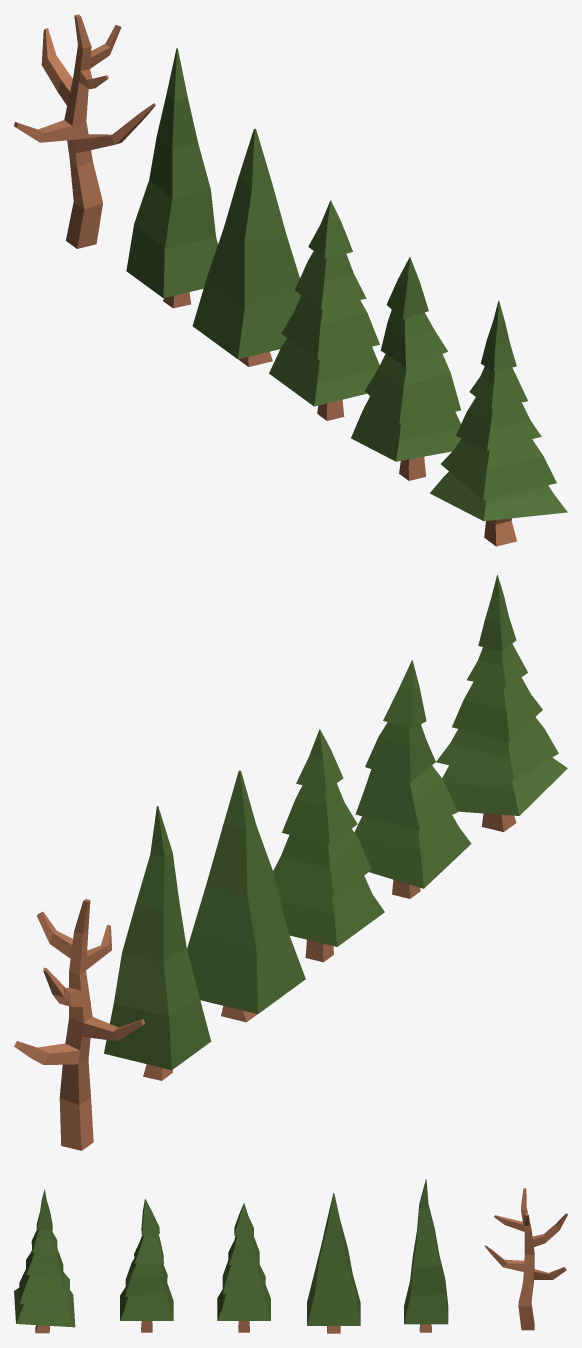
Rendered from low_poly_trees_pine.glb.
3 views of the same model, one above another, from view 1: azimuth 30°, elevation 25°; view 2: azimuth 150°, elevation 25°; view 3: azimuth 270°, elevation 25° (orthographic). The views are drawn at different scales.
Parts seen in each view (by area): view 1: Tree 1, Tree 4, Tree 2, Tree 3, Tree 5, Tree 6; view 2: Tree 4, Tree 1, Tree 5, Tree 2, Tree 3, Tree 6; view 3: Tree 1, Tree 4, Tree 3, Tree 2, Tree 5, Tree 6.
Part boxes in pixels (x1,y1,x2,y2): Tree 1: [430, 300, 567, 546]; Tree 4: [192, 128, 301, 366]; Tree 2: [351, 257, 460, 480]; Tree 3: [269, 200, 379, 420]; Tree 5: [126, 48, 217, 308]; Tree 6: [14, 14, 155, 248]; Tree 4: [187, 770, 305, 1022]; Tree 1: [436, 575, 567, 832]; Tree 5: [104, 806, 211, 1080]; Tree 2: [354, 660, 471, 898]; Tree 3: [273, 729, 384, 962]; Tree 6: [14, 899, 144, 1150]; Tree 1: [14, 1189, 75, 1333]; Tree 4: [307, 1193, 360, 1333]; Tree 3: [217, 1203, 270, 1332]; Tree 2: [120, 1198, 173, 1332]; Tree 5: [404, 1179, 448, 1332]; Tree 6: [484, 1188, 567, 1330].
Bounding box in the file's own units: 3.67 × 7.47 × 24.83.
Materials: 1 (1 with a texture image).
